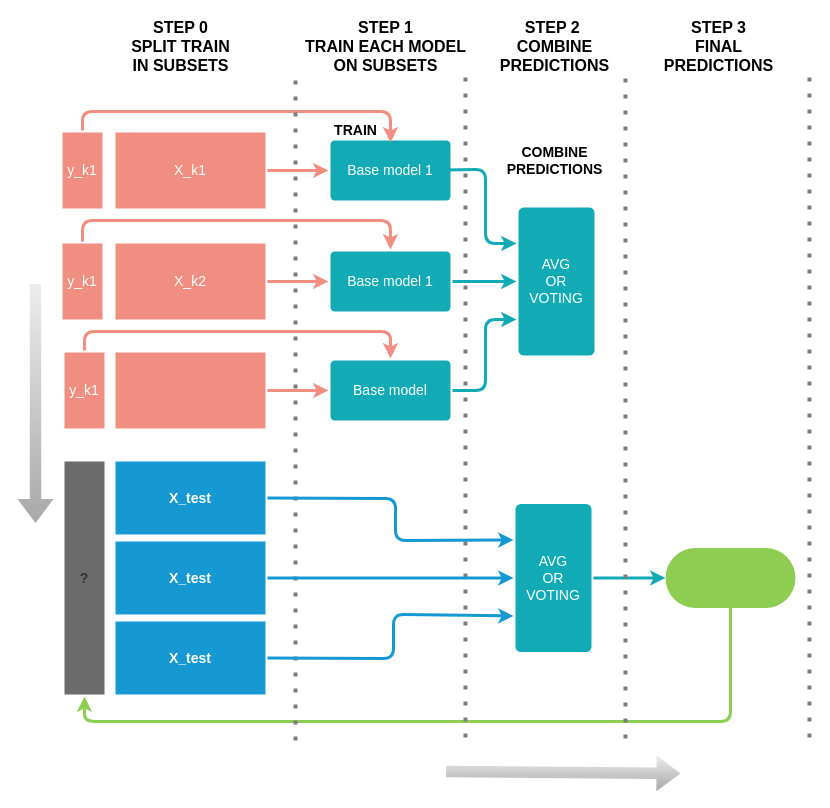
Image size: 830x808. Some labels were removed from this diagram. The centre of each missing label's shape, as x and y in pixels:
Bagging Predicion: the point at 730,578
X_k3: the point at 190,390
